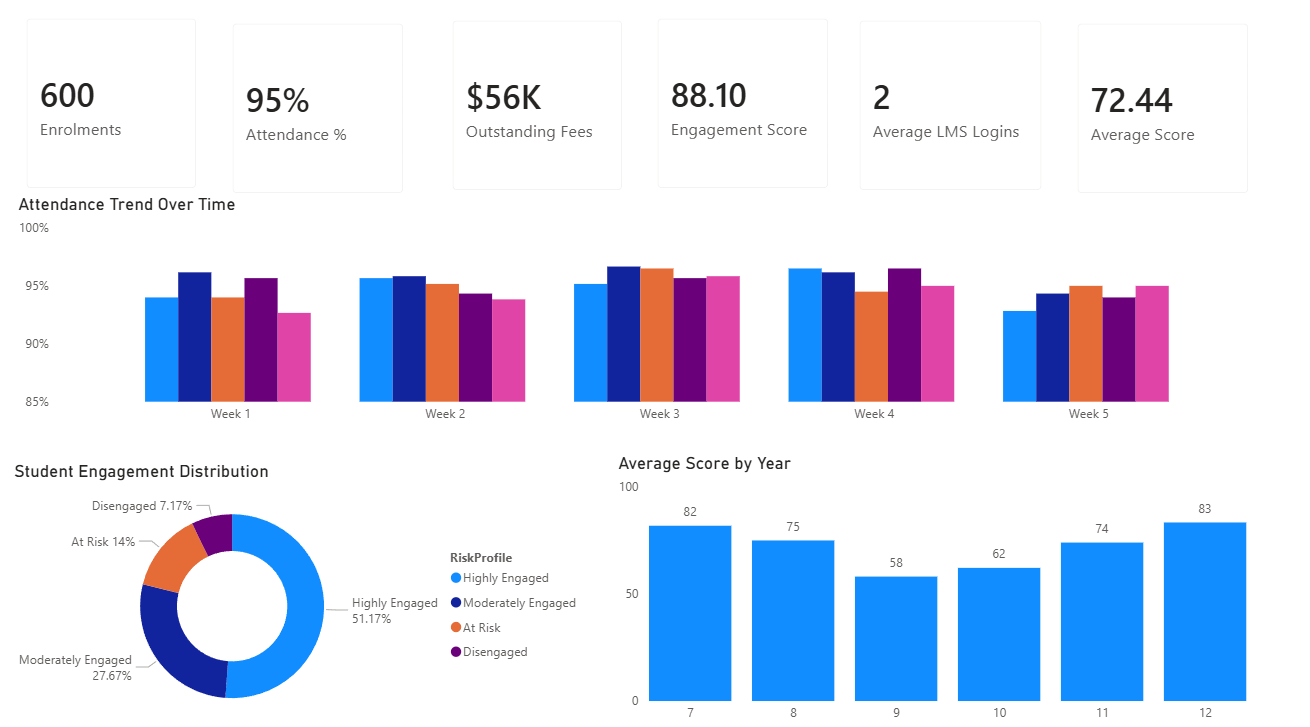

What the dashboard file says about the page in this screenshot:
{"tool":"powerbi","page":{"name":"Page 1","canvas":[1280,720],"ordinal":0},"visuals":[{"type":"cardVisual","title":"Enrolments","fields":{"Data":["Students.Total Students"]},"box":[10,8.9,199.8,199.8],"z":0},{"type":"cardVisual","title":"Attendance","fields":{"Data":["Attendance.Attendance %"]},"box":[209.7,13.8,200.5,199.3],"z":1000},{"type":"cardVisual","fields":{"Data":["Submissions.Average Score"]},"box":[1032.3,13.8,200.5,199.3],"z":2000},{"type":"cardVisual","fields":{"Data":["CanvasActivity.Average Logins"]},"box":[820.3,10.4,212,199.3],"z":3000},{"type":"cardVisual","fields":{"Data":["Fees.Outstanding Fees"]},"box":[424,10.4,199.3,199.3],"z":4000},{"type":"cardVisual","fields":{"Data":["Attendance.Engagement Score"]},"box":[623.3,9.2,200.5,199.3],"z":5000},{"type":"clusteredColumnChart","title":"Attendance Trend Over Time","fields":{"Category":["Attendance.School Week"],"Y":["Attendance.Attendance %"],"Series":["Attendance.Day Label"]},"box":[13.5,196.1,1218.4,232],"z":6000},{"type":"donutChart","title":"Student Engagement Distribution","fields":{"Y":["Count(Students.StudentID)"],"Category":["Students.RiskProfile"]},"box":[10.1,456.2,566,263.4],"z":7000},{"type":"clusteredColumnChart","title":"Average Score by Year","fields":{"Category":["Students.YearLevel"],"Y":["Submissions.Average Score"]},"box":[597.4,448.3,620.9,271.2],"z":8000}]}

Visuals, with their boxes in screenshot pixels (x1, y1, x2, y2), scaled from the page's 1280x720 canvas onto the 1310x727 screenshot:
"Enrolments" cardVisual: select_region(10, 9, 215, 211)
"Attendance" cardVisual: select_region(215, 14, 420, 215)
cardVisual - Submissions.Average Score: select_region(1056, 14, 1262, 215)
cardVisual - CanvasActivity.Average Logins: select_region(840, 11, 1056, 212)
cardVisual - Fees.Outstanding Fees: select_region(434, 11, 638, 212)
cardVisual - Attendance.Engagement Score: select_region(638, 9, 843, 211)
"Attendance Trend Over Time" clusteredColumnChart: select_region(14, 198, 1261, 432)
"Student Engagement Distribution" donutChart: select_region(10, 461, 590, 726)
"Average Score by Year" clusteredColumnChart: select_region(611, 453, 1247, 726)
